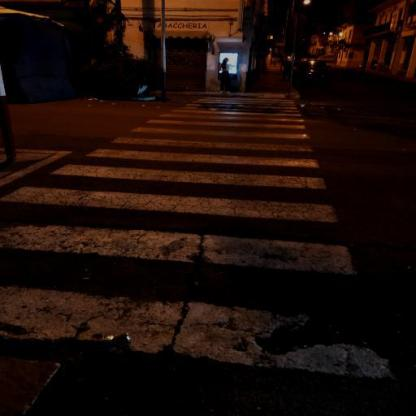crosswalk: (49, 147, 334, 196), (125, 116, 311, 140)
